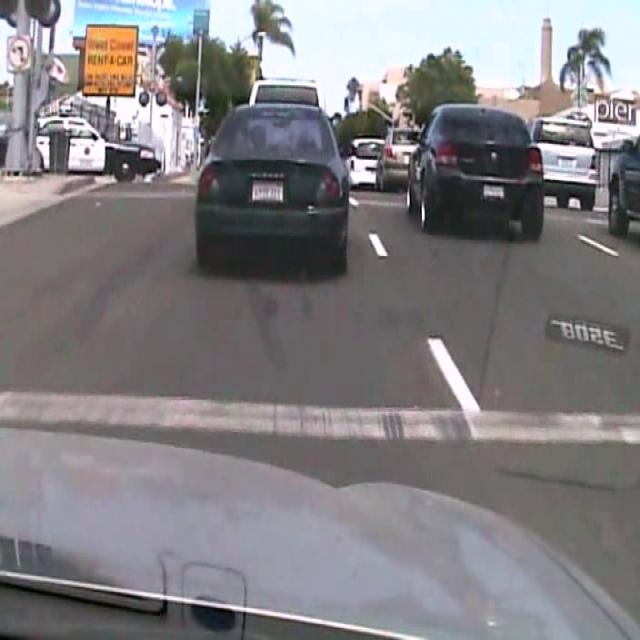noLeftTurn: (5, 33, 32, 71)
